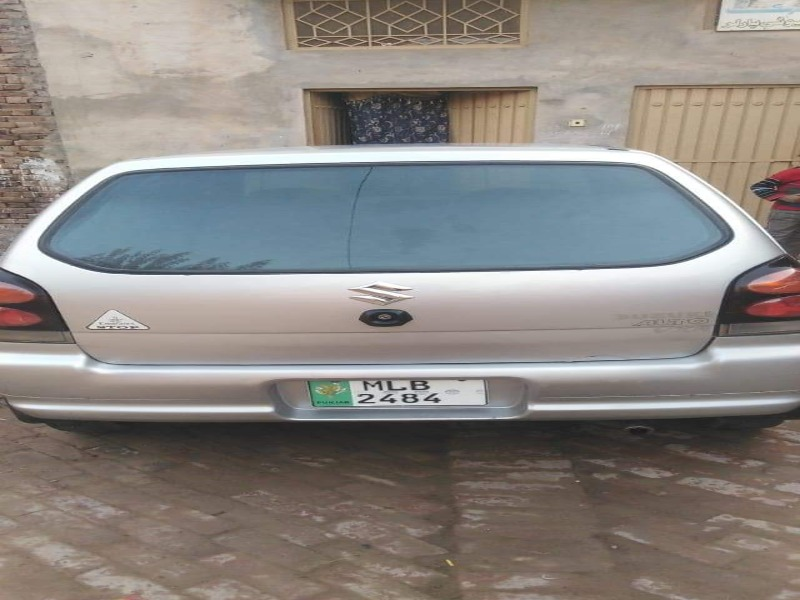License Plate: (302, 373, 495, 412)
